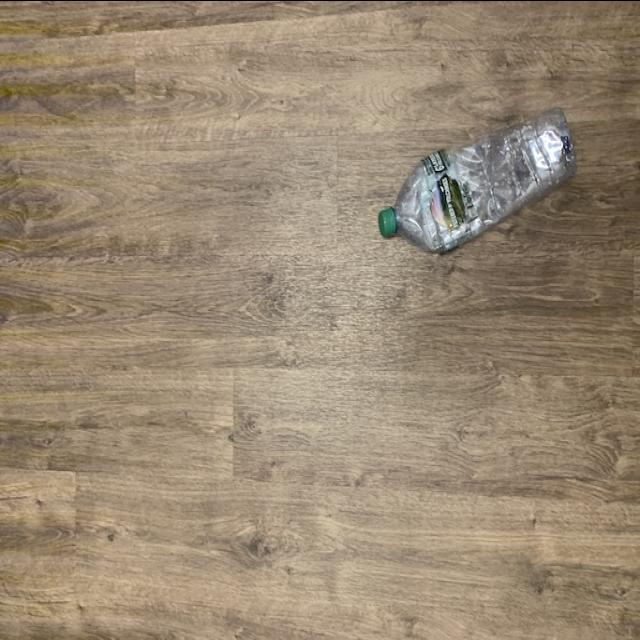PET: (376, 105, 580, 256)
